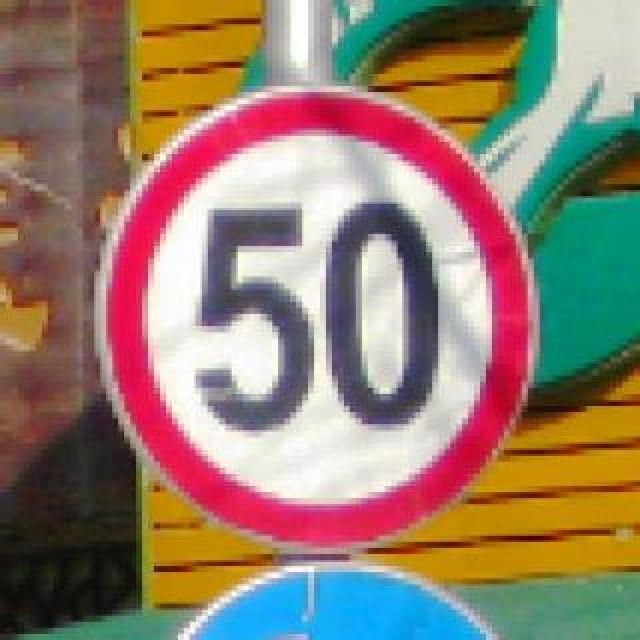50 kph: (90, 80, 534, 542)
